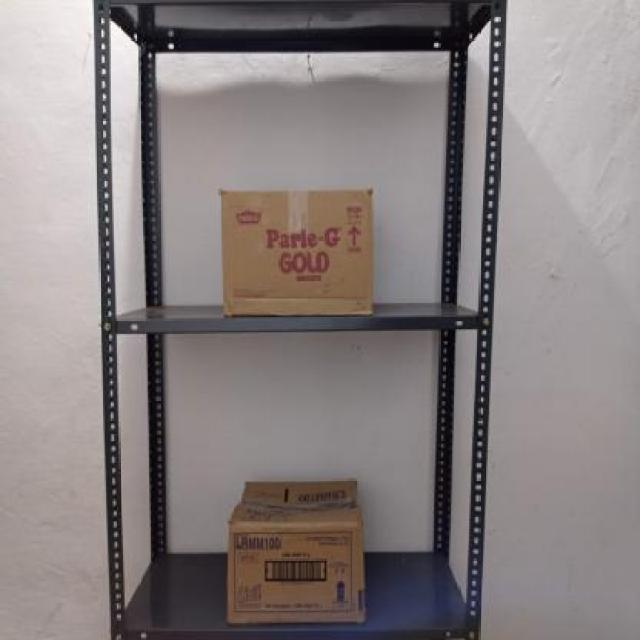box: (218, 188, 374, 314), (225, 521, 361, 627)
